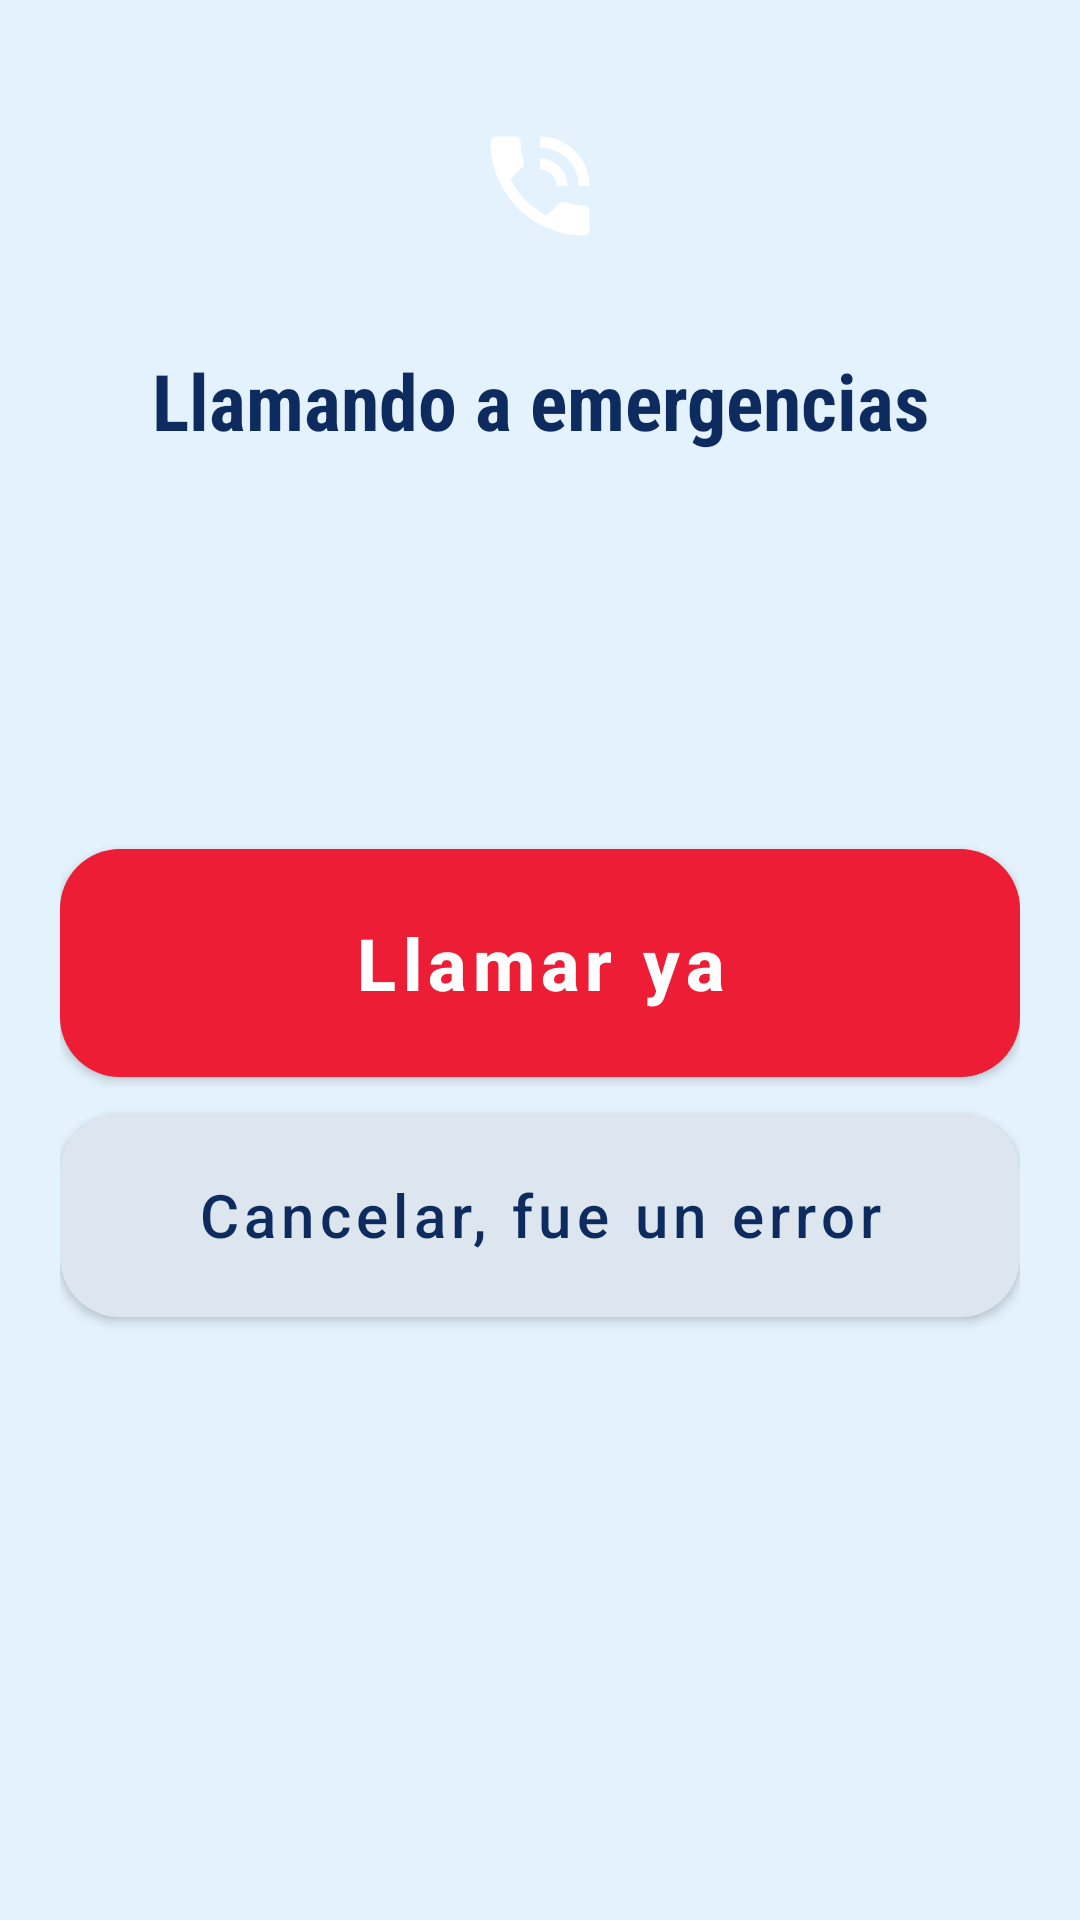

Point at icon controls on the screen. Image size 1080px×1920px, points as (x,y).
emergency call: (540,186)
